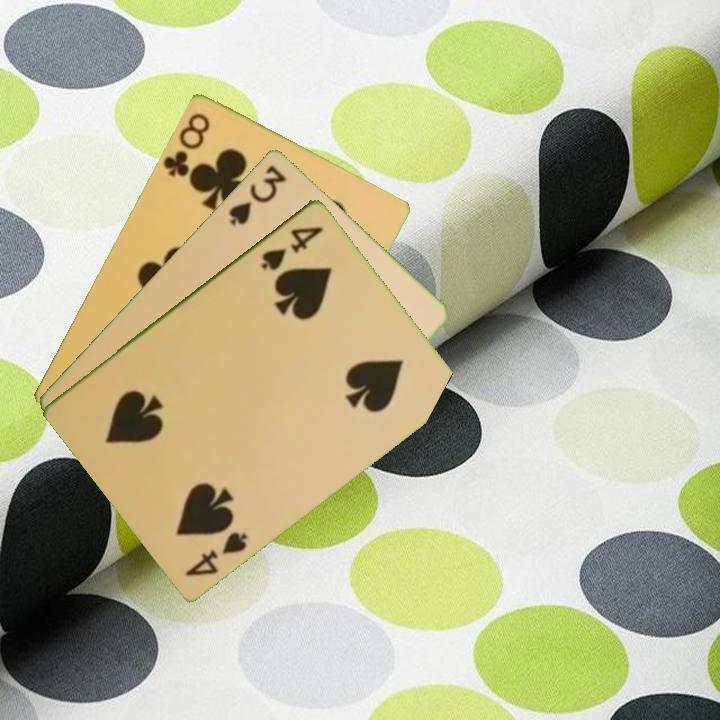3s: (224, 160, 289, 228)
4s: (182, 527, 251, 579), (257, 222, 327, 273)
8c: (159, 108, 213, 182)
